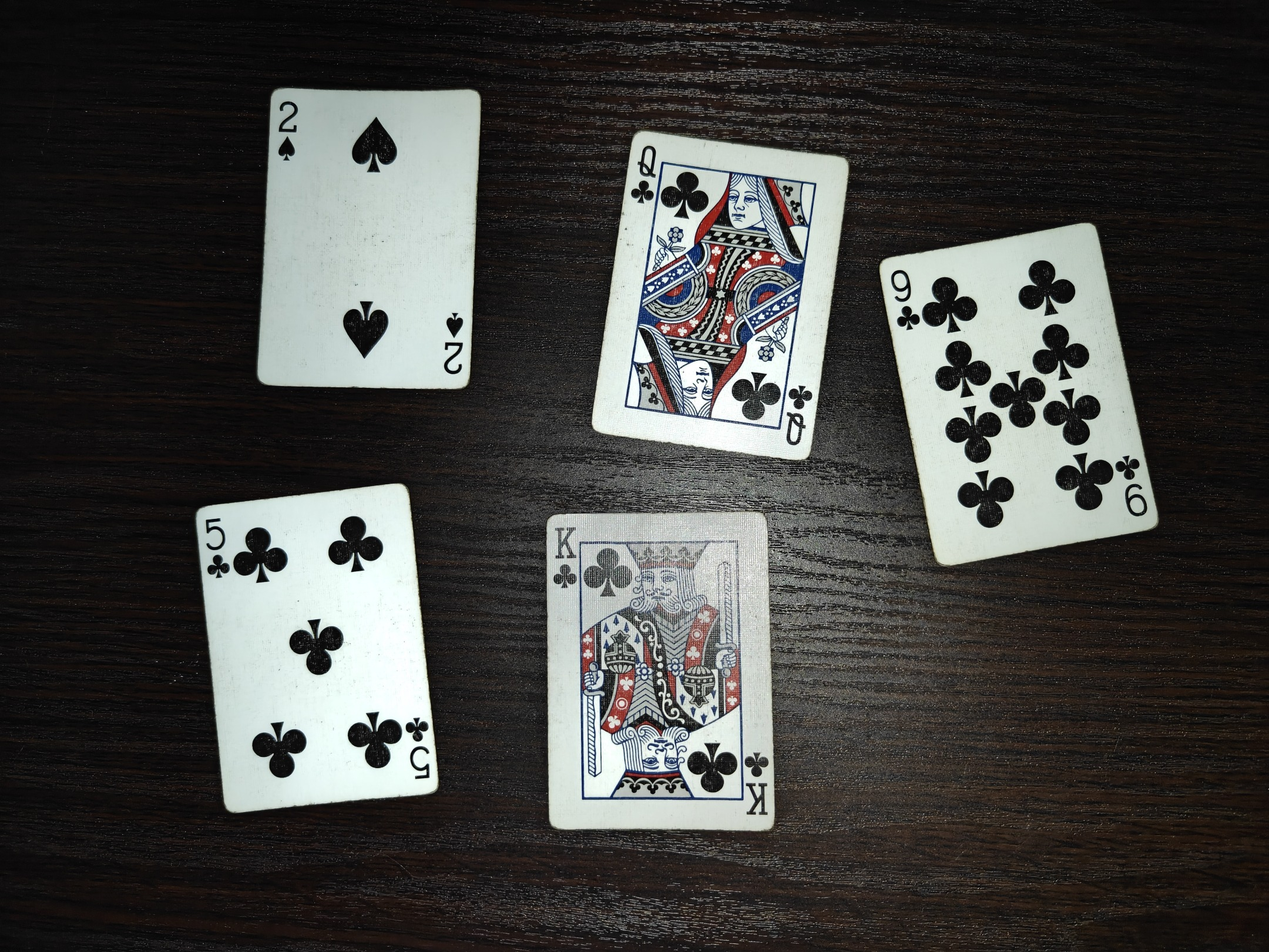2S: (253, 87, 484, 390)
5C: (195, 482, 441, 813)
9C: (878, 221, 1162, 566)
KC: (543, 509, 776, 832)
QC: (590, 128, 849, 462)
